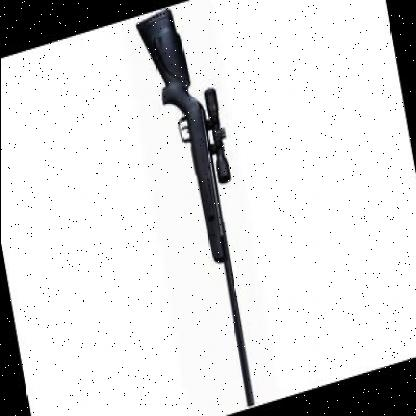rifle: (139, 0, 281, 416)
